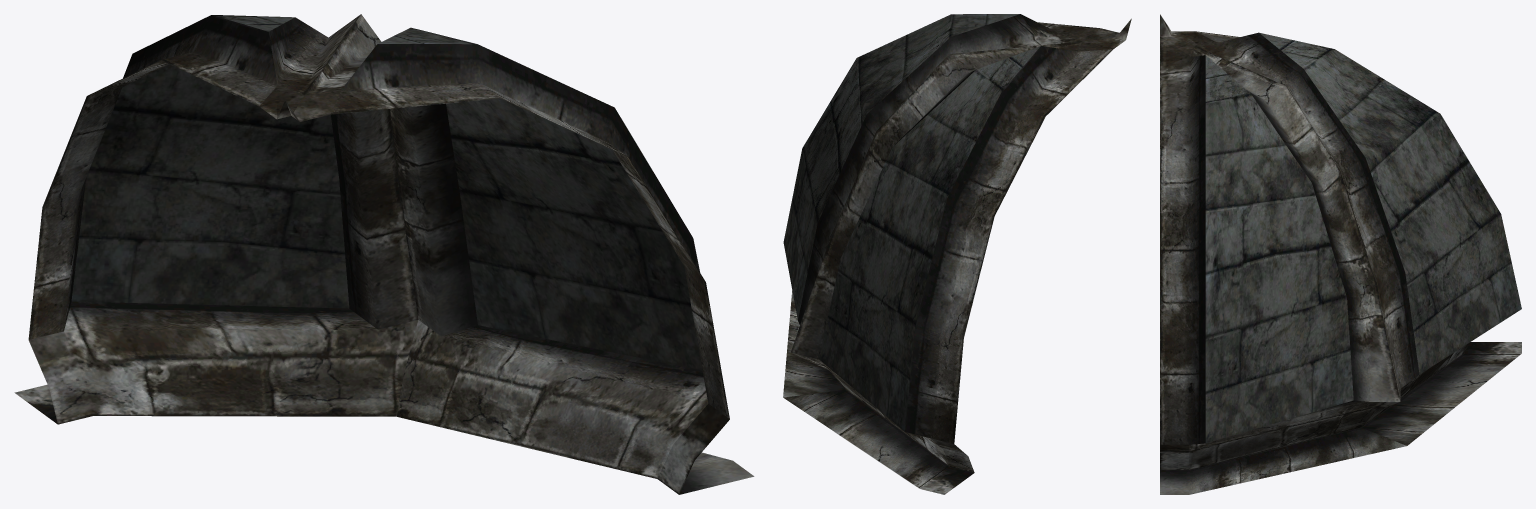
File: ceiling_corner_concave_round_short_alt.dae
The picture shows the model from 3 angles, left to right: view 1: azimuth 30°, elevation 25°; view 2: azimuth 150°, elevation 25°; view 3: azimuth 270°, elevation 25°; orthographic projection. The views are drawn at different scales.
Visible parts, largest first — view 1: corner_concave_roof_short_polySurface1; view 2: corner_concave_roof_short_polySurface1; view 3: corner_concave_roof_short_polySurface1.
Part boxes in pixels (<box>): corner_concave_roof_short_polySurface1: <box>14,14,754,494</box>; corner_concave_roof_short_polySurface1: <box>783,14,1131,494</box>; corner_concave_roof_short_polySurface1: <box>1160,14,1521,494</box>.
Bounding box in the file's own units: 2 × 2 × 2.
